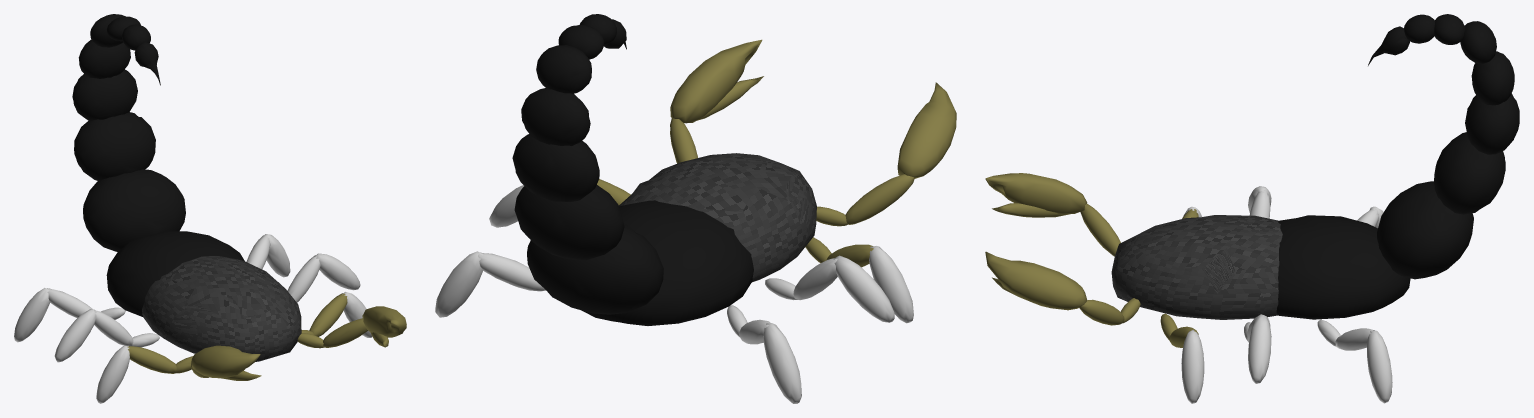
File: scorpion_000019.obj
The picture shows the model from 3 angles, left to right: view 1: azimuth 30°, elevation 25°; view 2: azimuth 150°, elevation 25°; view 3: azimuth 270°, elevation 25°; orthographic projection. The views are drawn at different scales.
Visible parts, largest first — view 1: Sphere.010_Sphere.012, Sphere.002_Sphere.004, Sphere.011_Sphere.013, Sphere.003_Sphere.005, Sphere.030_Sphere.000, Sphere.004_Sphere.006, Sphere.012_Sphere.020, Sphere.014_Sphere.023, Sphere.013_Sphere.017, Sphere.000_Sphere.019, Sphere.005_Sphere.007, Sphere.016_Sphere.022 (+7 smaller); view 2: Sphere.010_Sphere.012, Sphere.011_Sphere.013, Sphere.002_Sphere.004, Sphere.030_Sphere.000, Sphere.003_Sphere.005, Sphere.004_Sphere.006, Sphere.014_Sphere.023, Sphere.005_Sphere.007, Sphere.012_Sphere.020, Sphere.028_Sphere.046, Sphere.006_Sphere.008, Sphere.018_Sphere.025 (+8 smaller); view 3: Sphere.010_Sphere.012, Sphere.011_Sphere.013, Sphere.002_Sphere.004, Sphere.030_Sphere.000, Sphere.003_Sphere.005, Sphere.004_Sphere.006, Sphere.028_Sphere.046, Sphere.005_Sphere.007, Sphere.012_Sphere.020, Sphere.014_Sphere.023, Sphere.000_Sphere.019, Sphere.006_Sphere.008 (+6 smaller).
Boxes of the visible parts, x1=… form: Sphere.010_Sphere.012: x1=142, y1=256, x2=301, y2=361; Sphere.002_Sphere.004: x1=83, y1=169, x2=185, y2=251; Sphere.011_Sphere.013: x1=106, y1=231, x2=244, y2=316; Sphere.003_Sphere.005: x1=74, y1=112, x2=155, y2=180; Sphere.030_Sphere.000: x1=191, y1=306, x2=406, y2=378; Sphere.004_Sphere.006: x1=72, y1=69, x2=137, y2=120; Sphere.012_Sphere.020: x1=54, y1=253, x2=360, y2=362; Sphere.014_Sphere.023: x1=14, y1=234, x2=290, y2=342; Sphere.013_Sphere.017: x1=127, y1=293, x2=347, y2=373; Sphere.000_Sphere.019: x1=96, y1=292, x2=372, y2=403; Sphere.005_Sphere.007: x1=78, y1=39, x2=130, y2=78; Sphere.016_Sphere.022: x1=94, y1=255, x2=320, y2=346; Sphere.010_Sphere.012: x1=619, y1=153, x2=816, y2=282; Sphere.011_Sphere.013: x1=581, y1=200, x2=753, y2=325; Sphere.002_Sphere.004: x1=527, y1=223, x2=663, y2=314; Sphere.030_Sphere.000: x1=670, y1=39, x2=956, y2=178; Sphere.003_Sphere.005: x1=514, y1=185, x2=624, y2=260; Sphere.004_Sphere.006: x1=512, y1=134, x2=599, y2=201; Sphere.014_Sphere.023: x1=435, y1=251, x2=801, y2=403; Sphere.005_Sphere.007: x1=521, y1=88, x2=590, y2=145; Sphere.012_Sphere.020: x1=489, y1=185, x2=894, y2=322; Sphere.028_Sphere.046: x1=670, y1=118, x2=914, y2=224; Sphere.006_Sphere.008: x1=536, y1=45, x2=591, y2=93; Sphere.018_Sphere.025: x1=478, y1=253, x2=770, y2=344; Sphere.010_Sphere.012: x1=1111, y1=215, x2=1282, y2=319; Sphere.011_Sphere.013: x1=1276, y1=215, x2=1410, y2=319; Sphere.002_Sphere.004: x1=1377, y1=181, x2=1473, y2=279; Sphere.030_Sphere.000: x1=985, y1=173, x2=1087, y2=310; Sphere.003_Sphere.005: x1=1434, y1=132, x2=1505, y2=214; Sphere.004_Sphere.006: x1=1465, y1=93, x2=1519, y2=154; Sphere.028_Sphere.046: x1=1079, y1=203, x2=1124, y2=325; Sphere.005_Sphere.007: x1=1471, y1=51, x2=1514, y2=105; Sphere.012_Sphere.020: x1=1248, y1=186, x2=1271, y2=383; Sphere.014_Sphere.023: x1=1367, y1=206, x2=1392, y2=403; Sphere.000_Sphere.019: x1=1181, y1=206, x2=1204, y2=403; Sphere.006_Sphere.008: x1=1460, y1=21, x2=1496, y2=63.
Size of the model in its own units: 0.9667 by 0.8253 by 1.28.
